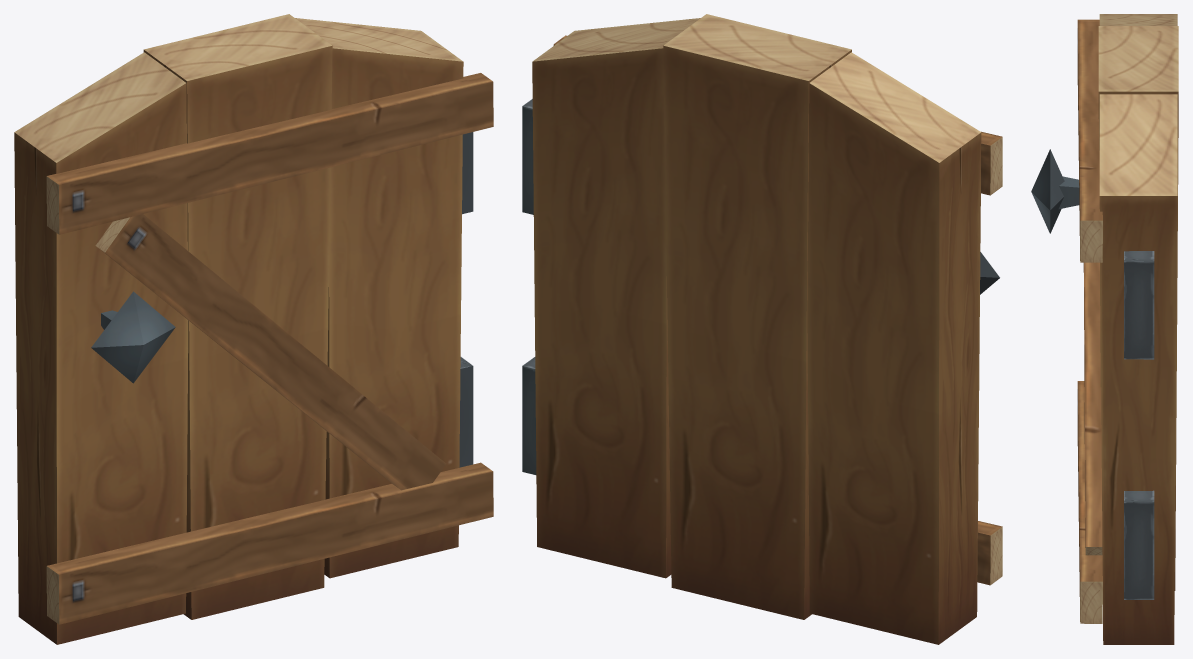
Rendered from gates_03.fbx.
3 renders of one model, left to right at view 1: azimuth 30°, elevation 25°; view 2: azimuth 150°, elevation 25°; view 3: azimuth 270°, elevation 25°, orthographic. The views are drawn at different scales.
Parts seen in each view (by area): view 1: gates_03:Mesh; view 2: gates_03:Mesh; view 3: gates_03:Mesh.
Part boxes in pixels (x1,y1,x2,y2): gates_03:Mesh: (14,14,493,644); gates_03:Mesh: (522,14,1002,644); gates_03:Mesh: (1031,14,1178,644).
Size of the model in its own units: 2.67 by 3.14 by 0.8382.
